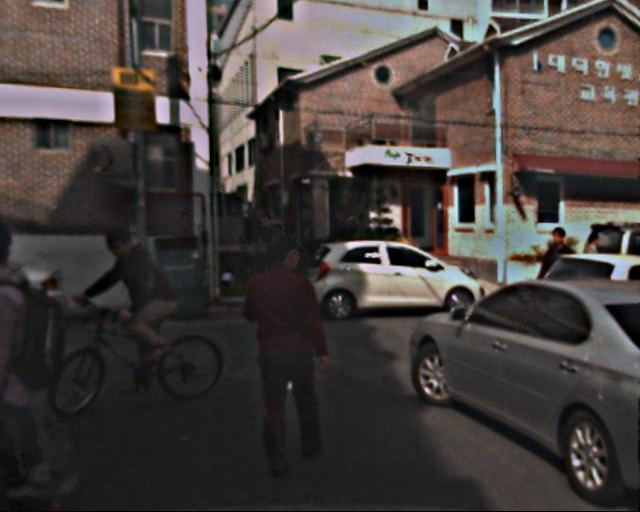person: (244, 236, 339, 468), (5, 225, 57, 498), (100, 227, 168, 393), (536, 228, 583, 329), (237, 211, 287, 273), (223, 265, 233, 290)
